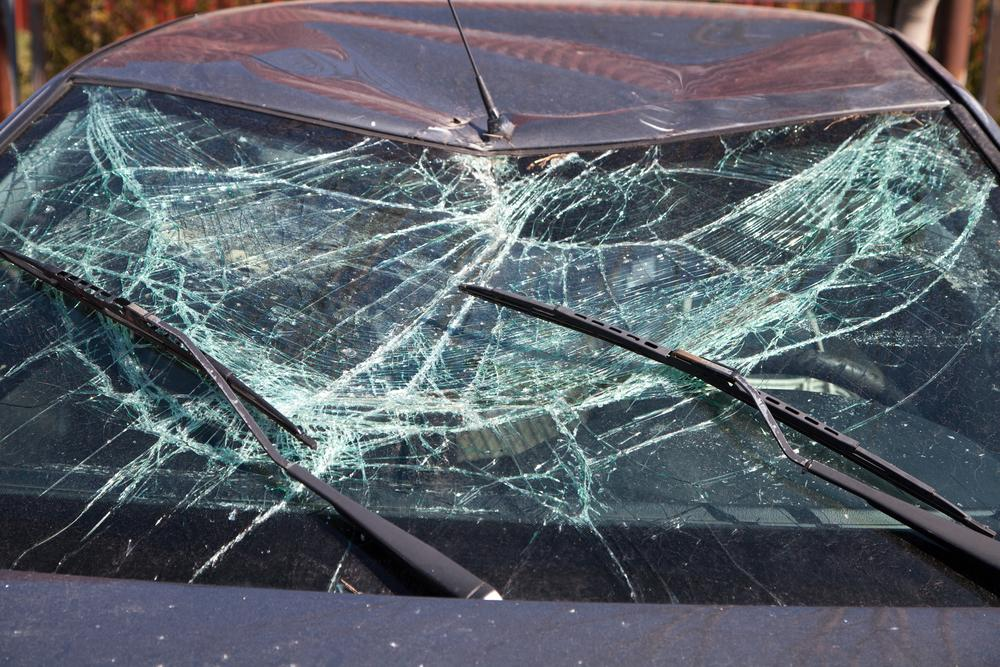dent: (249, 10, 942, 150)
glass shatter: (0, 81, 1000, 607)
